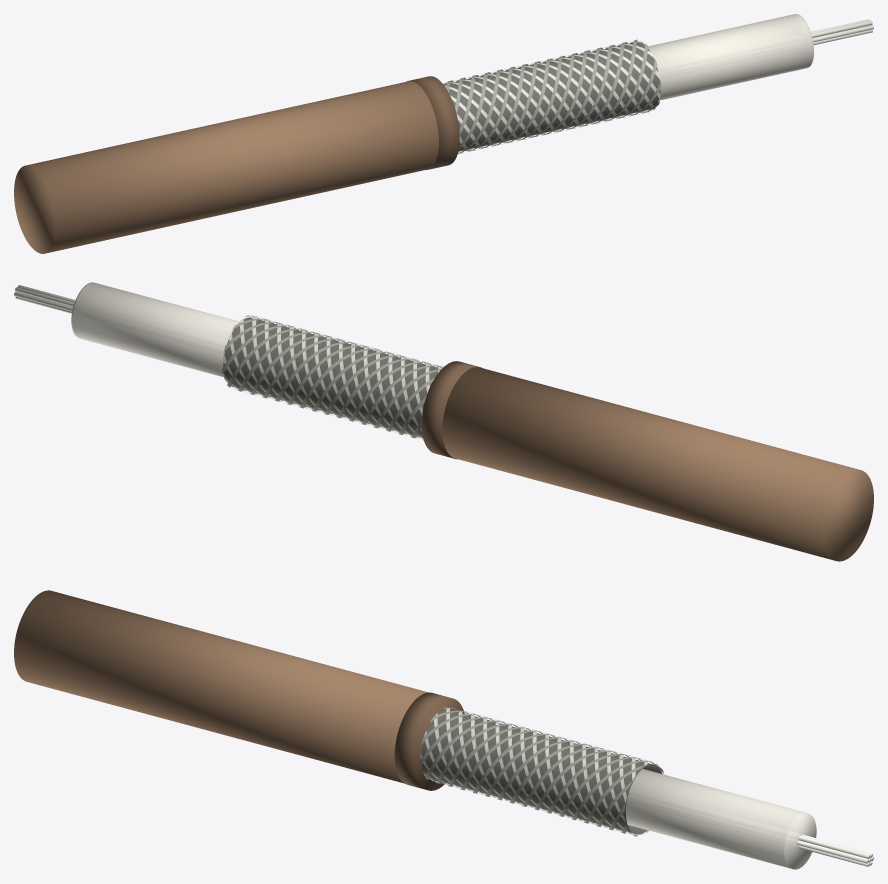
3 views of the same model, one above another, from view 1: azimuth 30°, elevation 25°; view 2: azimuth 150°, elevation 25°; view 3: azimuth 330°, elevation 25° (orthographic). The views are drawn at different scales.
Parts seen in each view (by area): view 1: matte black pvc jacket body, smooth dielectric skin, gas injected foam dielectric, braid dark diamond recess, jacket cut lip, braid left hand woven carrier 10, braid left hand woven carrier 01, braid left hand woven carrier 02, braid left hand woven carrier 09, braid left hand woven carrier 08, braid left hand woven carrier 03, braid right hand woven carrier 10 (+5 smaller); view 2: matte black pvc jacket body, smooth dielectric skin, gas injected foam dielectric, braid dark diamond recess, jacket cut lip, braid left hand woven carrier 07, braid left hand woven carrier 08, braid left hand woven carrier 06, braid left hand woven carrier 09, braid left hand woven carrier 05, braid left hand woven carrier 10, braid left hand woven carrier 04; view 3: matte black pvc jacket body, gas injected foam dielectric, smooth dielectric skin, braid dark diamond recess, jacket cut lip, braid left hand woven carrier 10, braid left hand woven carrier 01, braid left hand woven carrier 09, braid left hand woven carrier 08, braid left hand woven carrier 02, braid left hand woven carrier 07, braid left hand woven carrier 03 (+1 smaller).
Boxes of the visible parts, x1=… form: matte black pvc jacket body: x1=14, y1=81, x2=438, y2=253; smooth dielectric skin: x1=648, y1=14, x2=812, y2=100; gas injected foam dielectric: x1=648, y1=14, x2=813, y2=100; braid dark diamond recess: x1=444, y1=42, x2=660, y2=151; jacket cut lip: x1=407, y1=76, x2=459, y2=169; braid left hand woven carrier 10: x1=458, y1=42, x2=627, y2=153; braid left hand woven carrier 01: x1=461, y1=39, x2=637, y2=153; braid left hand woven carrier 02: x1=465, y1=43, x2=648, y2=150; braid left hand woven carrier 09: x1=459, y1=45, x2=615, y2=148; braid left hand woven carrier 08: x1=459, y1=47, x2=602, y2=134; braid left hand woven carrier 03: x1=481, y1=58, x2=657, y2=148; braid right hand woven carrier 10: x1=443, y1=55, x2=646, y2=140; matte black pvc jacket body: x1=442, y1=367, x2=873, y2=561; smooth dielectric skin: x1=72, y1=282, x2=239, y2=377; gas injected foam dielectric: x1=71, y1=282, x2=239, y2=376; braid dark diamond recess: x1=223, y1=317, x2=437, y2=437; jacket cut lip: x1=421, y1=361, x2=482, y2=459; braid left hand woven carrier 07: x1=238, y1=332, x2=443, y2=424; braid left hand woven carrier 08: x1=227, y1=328, x2=442, y2=421; braid left hand woven carrier 06: x1=250, y1=335, x2=441, y2=428; braid left hand woven carrier 09: x1=222, y1=325, x2=431, y2=418; braid left hand woven carrier 05: x1=262, y1=338, x2=434, y2=431; braid left hand woven carrier 10: x1=224, y1=322, x2=419, y2=414; braid left hand woven carrier 04: x1=275, y1=342, x2=426, y2=434; matte black pvc jacket body: x1=14, y1=590, x2=428, y2=783; gas injected foam dielectric: x1=626, y1=769, x2=816, y2=869; smooth dielectric skin: x1=626, y1=769, x2=805, y2=868; braid dark diamond recess: x1=421, y1=709, x2=662, y2=834; jacket cut lip: x1=394, y1=692, x2=464, y2=790; braid left hand woven carrier 10: x1=435, y1=724, x2=663, y2=816; braid left hand woven carrier 01: x1=448, y1=727, x2=653, y2=820; braid left hand woven carrier 09: x1=425, y1=720, x2=641, y2=813; braid left hand woven carrier 08: x1=420, y1=717, x2=629, y2=810; braid left hand woven carrier 02: x1=460, y1=730, x2=643, y2=823; braid left hand woven carrier 07: x1=421, y1=714, x2=649, y2=832; braid left hand woven carrier 03: x1=473, y1=734, x2=631, y2=826.
Bounding box in the file's own units: 6.51 × 0.6287 × 0.7701.
